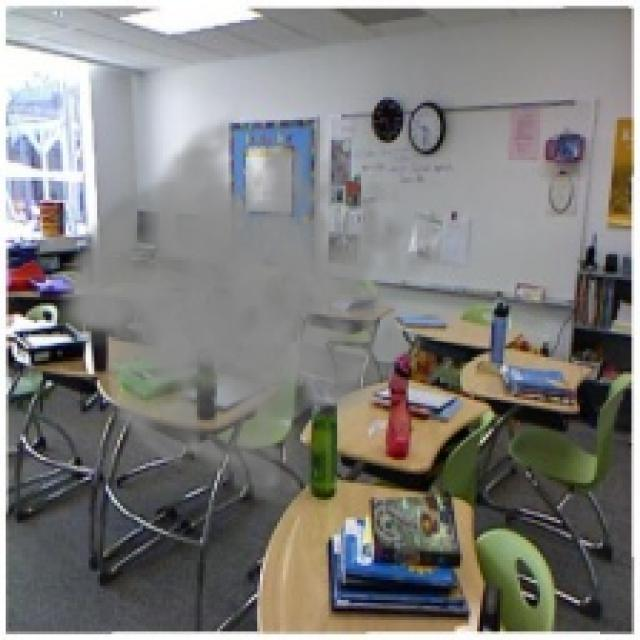Smoke: (51, 102, 428, 508)
